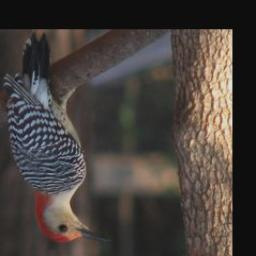Woodpecker: (1, 37, 112, 245)
